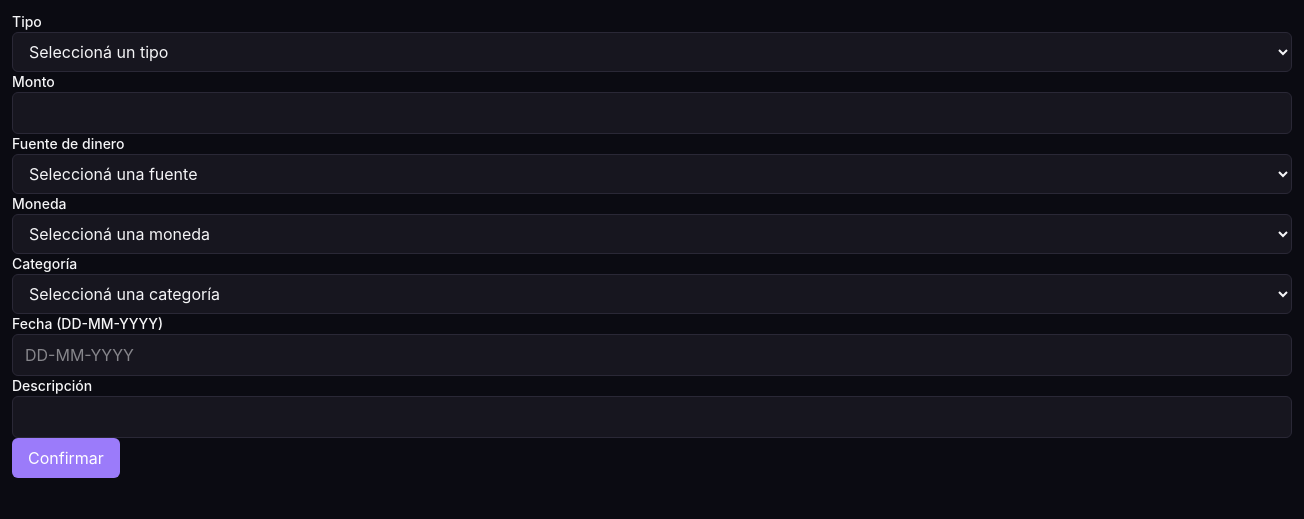
TransactionForm › el service devuelve 403 → el hook expone el error y el formulario conserva los datos ingresados (AC-07, AC-08)
Select "Egreso" in the dropdown labelled "Tipo" at (652, 52), box [12,32,1292,72]
Type "100" into the number field labelled "Monto" at (652, 113), box [12,92,1292,134]
Select "Efectivo" in the dropdown labelled "Fuente de dinero" at (652, 174), box [12,154,1292,194]
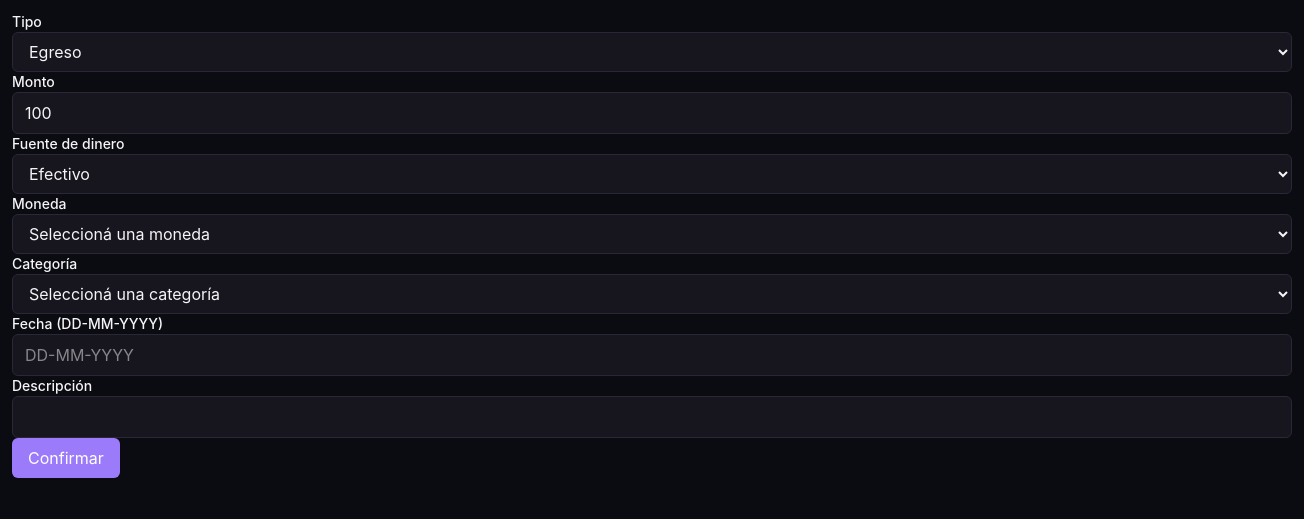
Select "ARS" in the dropdown labelled "Moneda" at (652, 234), box [12,214,1292,254]
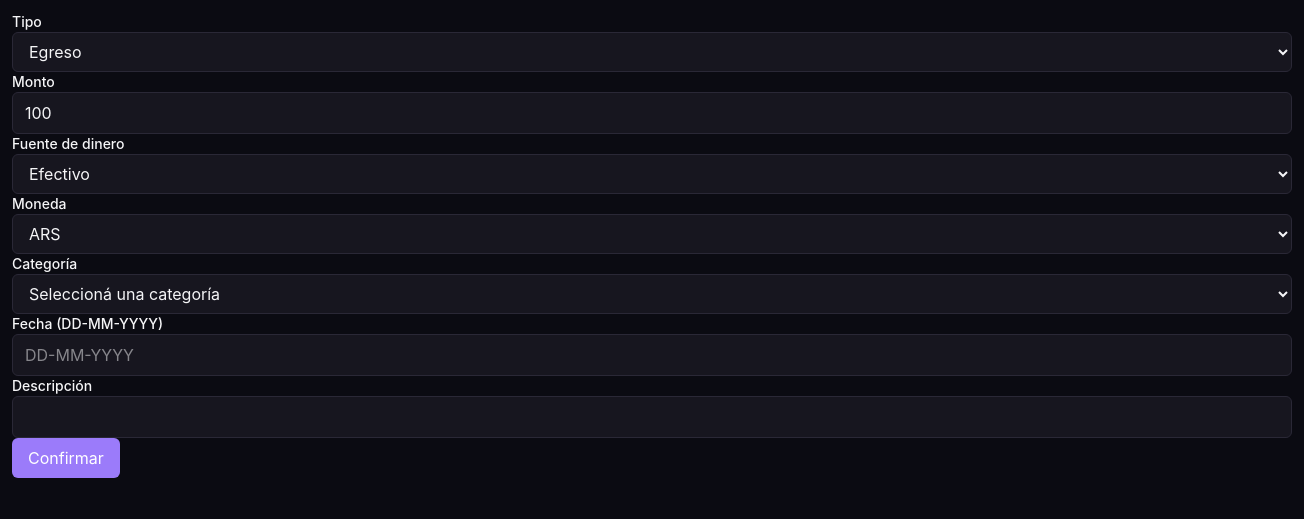
Select "General" in the dropdown labelled "Categoría" at (652, 294), box [12,274,1292,314]
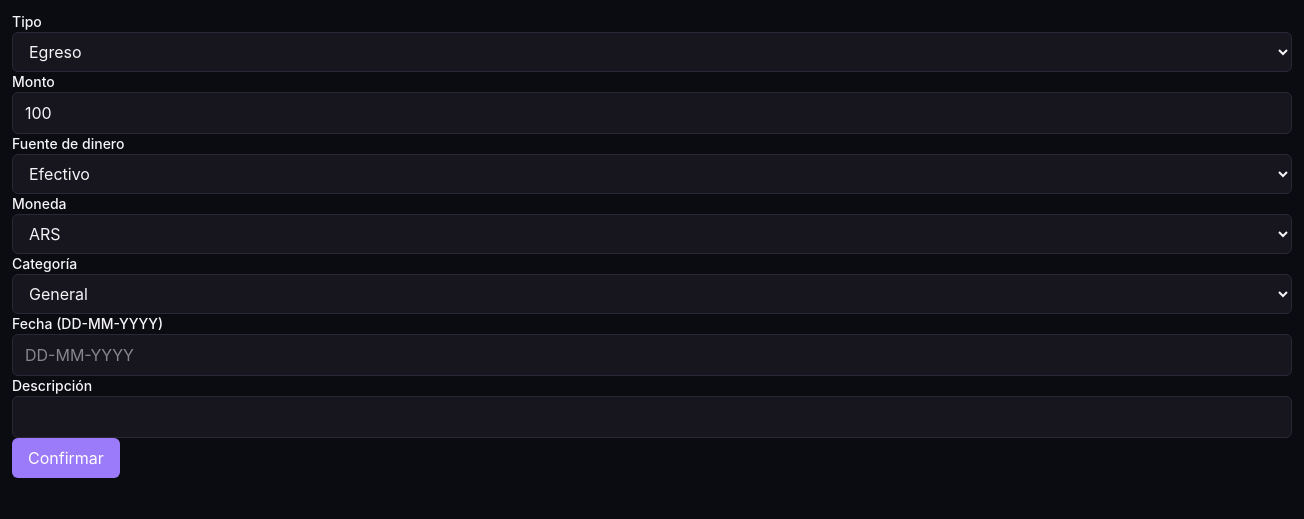
Type "02-08-2026" into the field labelled "Fecha (DD-MM-YYYY)" at (652, 355), box [12,334,1292,376]
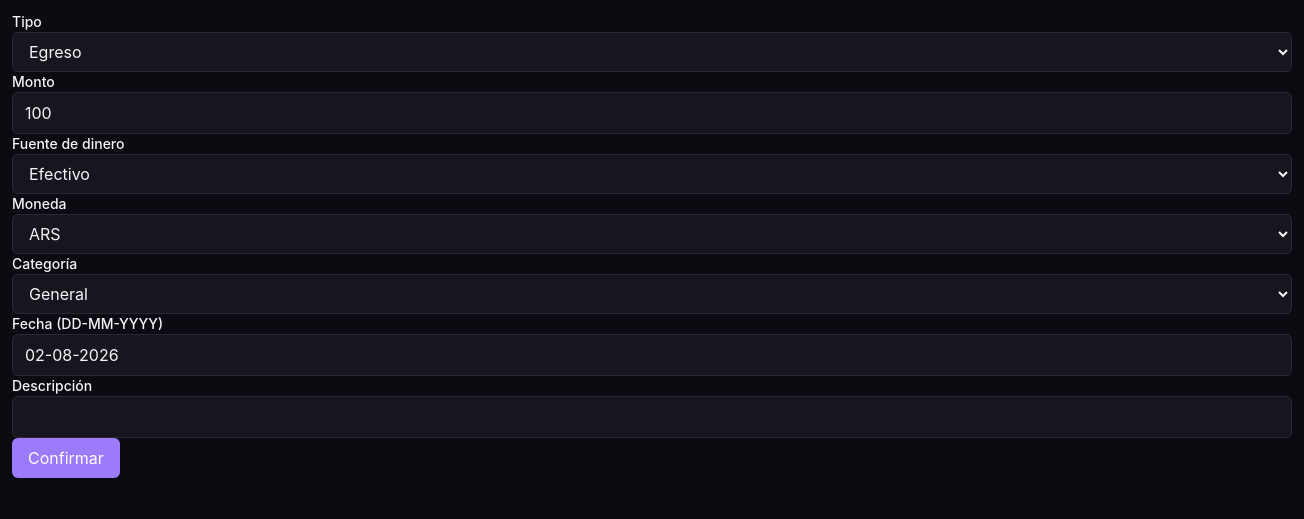
Type "Supermercado" into the field labelled "Descripción" at (652, 417), box [12,396,1292,438]
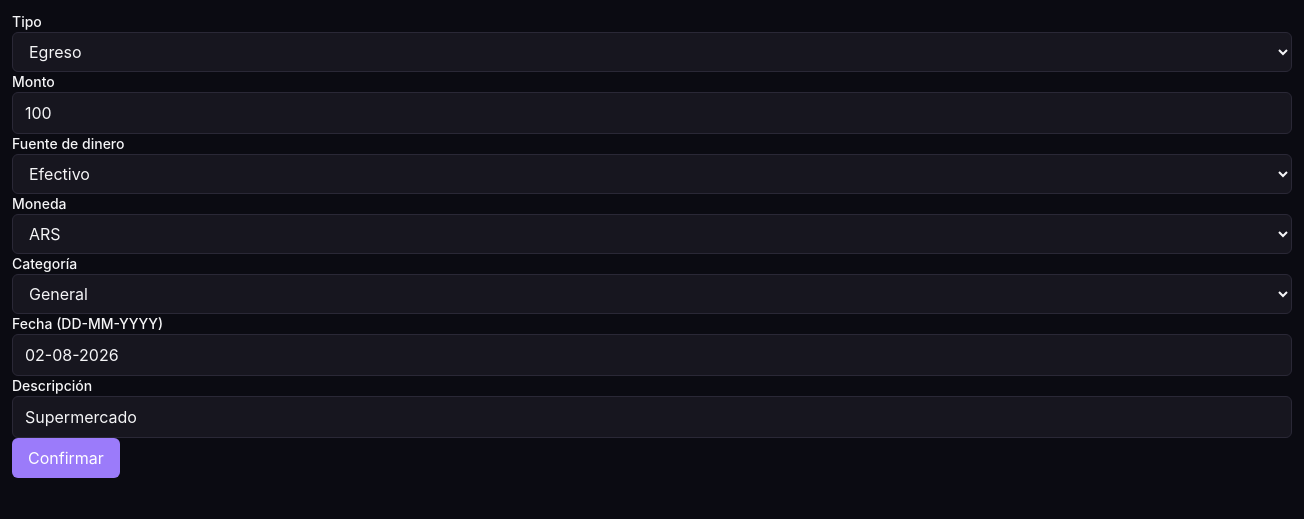
Click the button "Confirmar" at (66, 458), box [12,438,120,478]
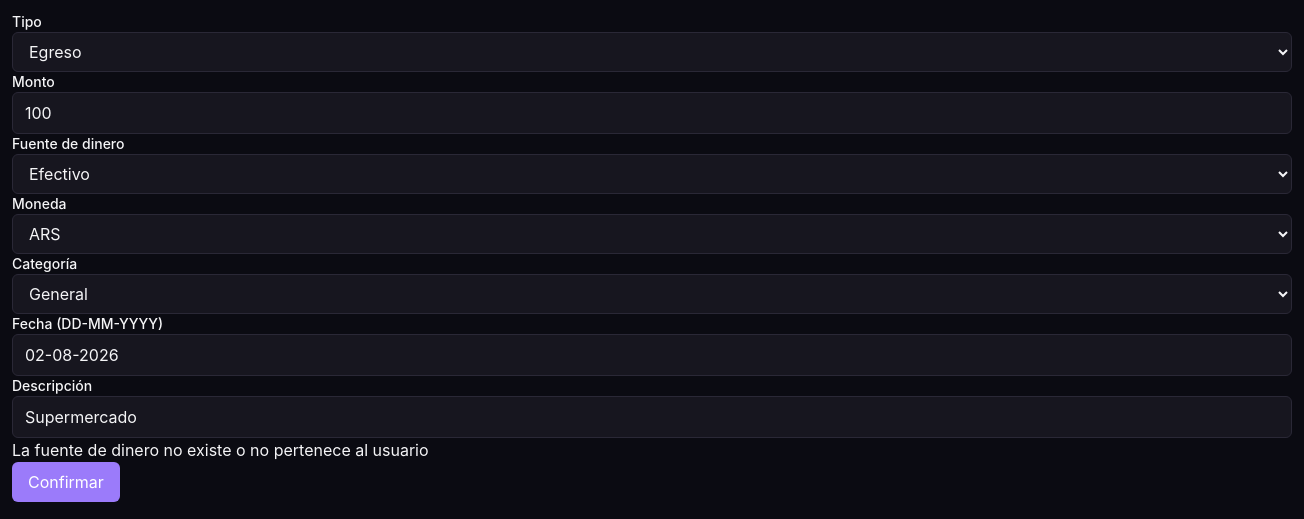
Check: the text "La fuente de dinero no existe o no pertenece al usuario" is shown, box [12,440,429,460]
